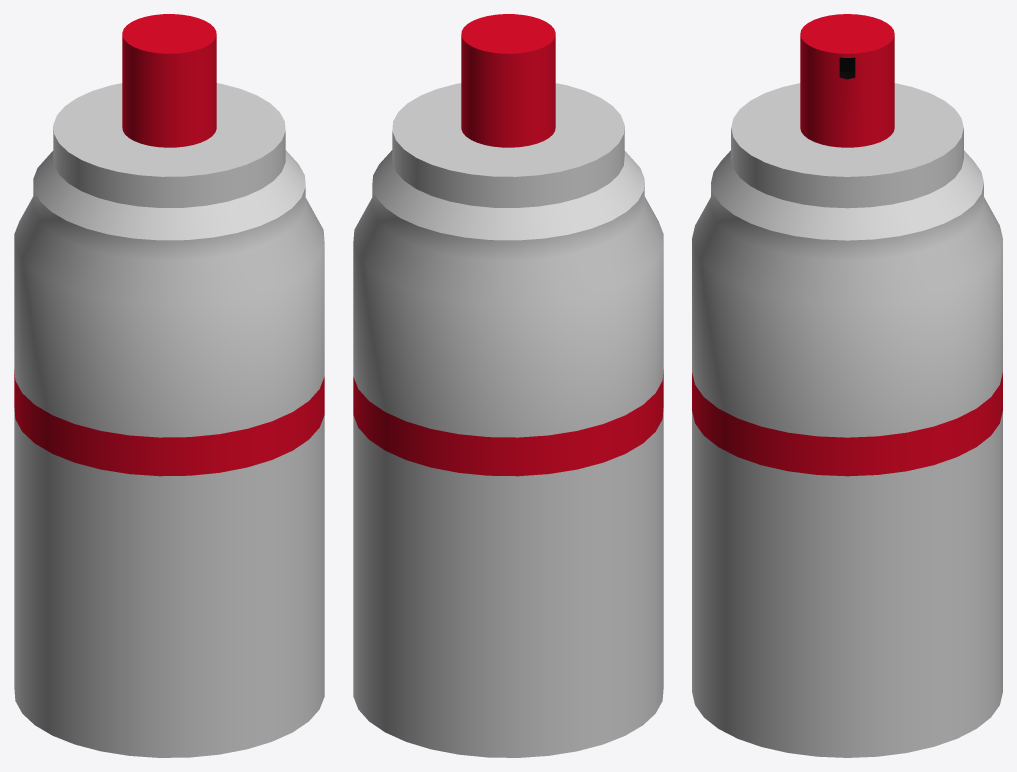
File: Spray.fbx
The picture shows the model from 3 angles, left to right: view 1: azimuth 30°, elevation 25°; view 2: azimuth 150°, elevation 25°; view 3: azimuth 270°, elevation 25°; orthographic projection.
Parts seen in each view (by area): view 1: Cylinder; view 2: Cylinder; view 3: Cylinder.
Part boxes in pixels (x1,y1,x2,y2): Cylinder: [14, 14, 324, 757]; Cylinder: [353, 14, 663, 757]; Cylinder: [692, 14, 1002, 757].
Size of the model in its own units: 200 by 467 by 200.
